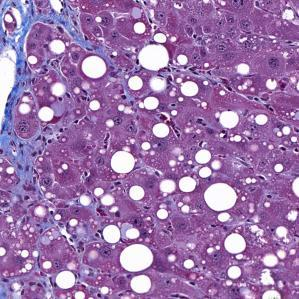fibrosis: (4, 3, 86, 88), (5, 132, 50, 199)
